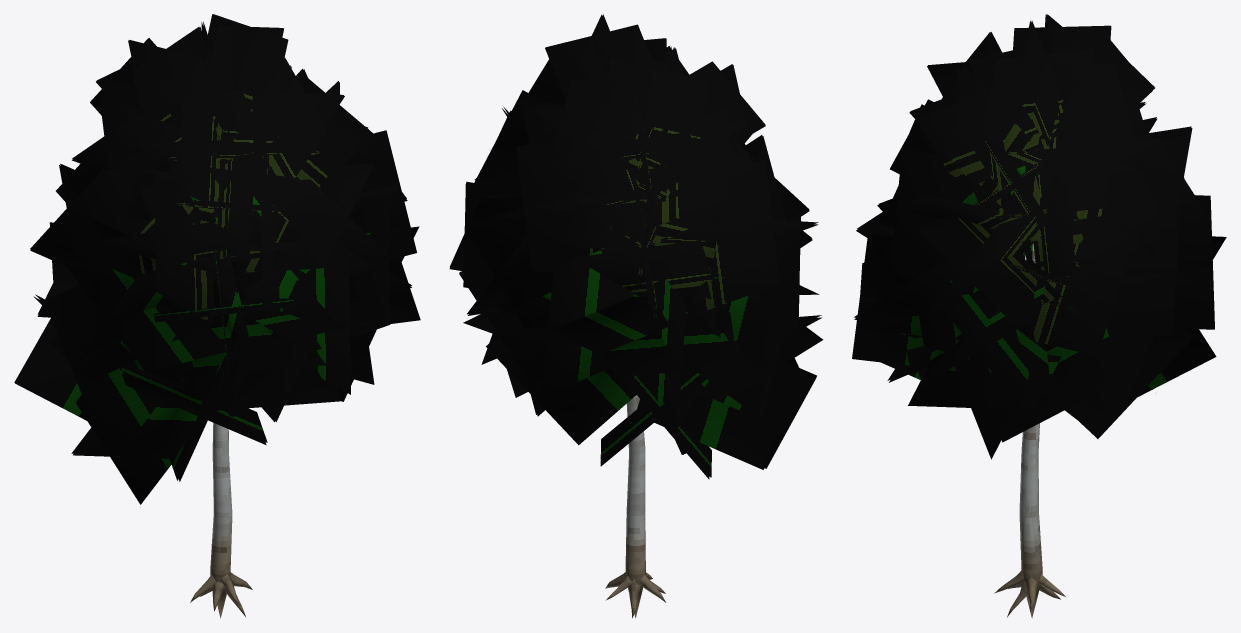
Rendered from plants_tree02.gltf.
3 views of the same model, side by side, from view 1: azimuth 30°, elevation 25°; view 2: azimuth 150°, elevation 25°; view 3: azimuth 270°, elevation 25° (orthographic).
Parts seen in each view (by area): view 1: plants_tree02; view 2: plants_tree02; view 3: plants_tree02.
Part boxes in pixels (x1=…): plants_tree02: x1=14, y1=14, x2=420, y2=618; plants_tree02: x1=449, y1=14, x2=823, y2=618; plants_tree02: x1=852, y1=14, x2=1226, y2=618.
Size of what is drawn, in the model's own units: 5.97 by 9.91 by 5.63.
Materials: 2 (2 with a texture image).
